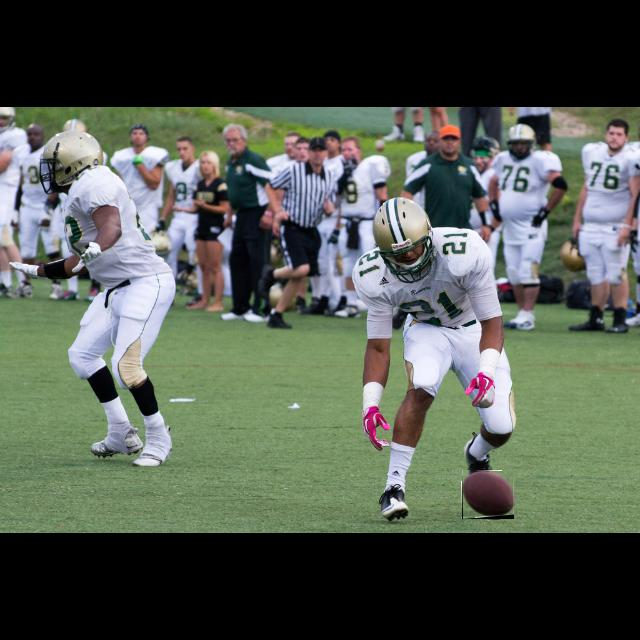Football: (462, 471, 514, 519)
